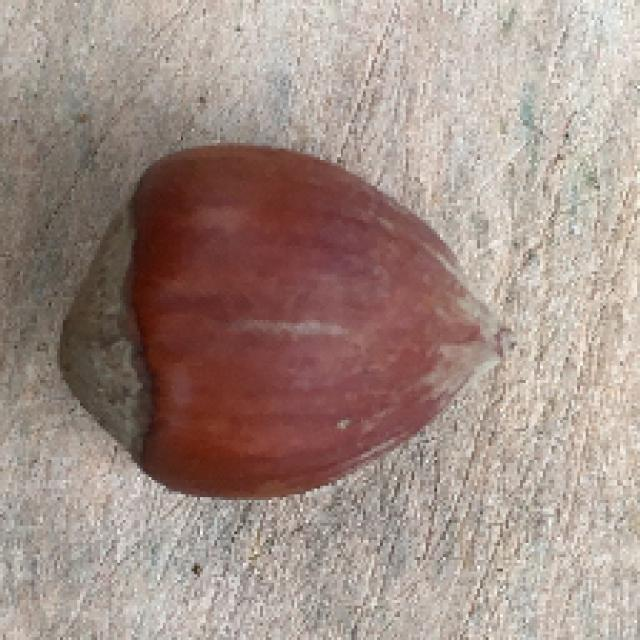QualityHazelnut: (58, 143, 528, 503)
